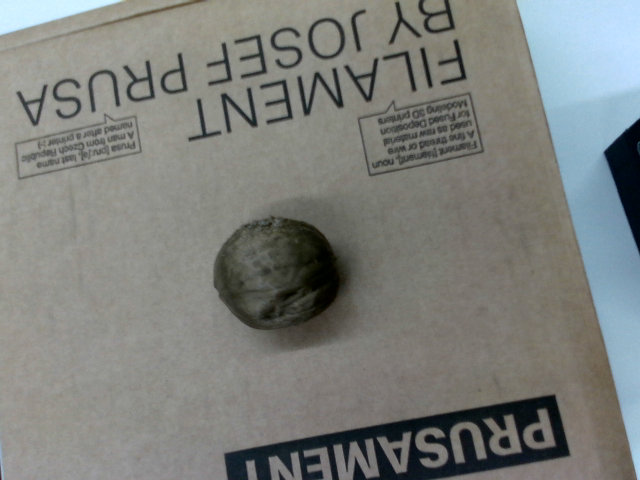walnut: (202, 205, 347, 339)
